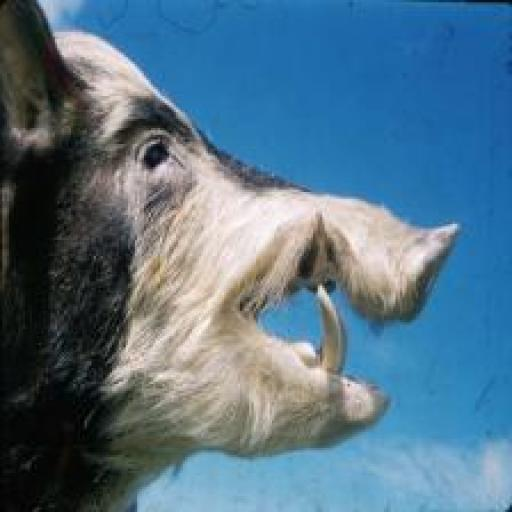Pig: (0, 2, 459, 511)
